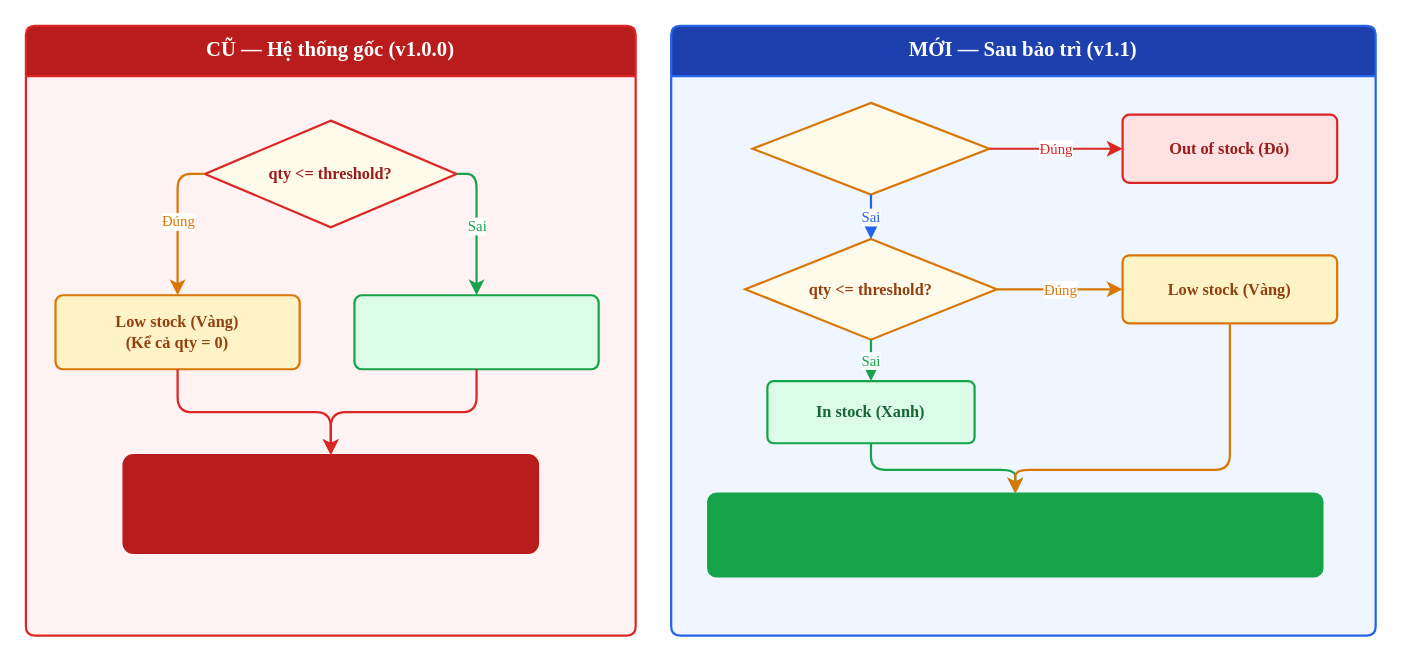
The diagram is 1403 pixels wide and 663 high, and some of its shapes have lost their labels. Each missing label, with the centre of its shape:
"Dashboard 3 thẻ (Không tách Out of stock)" goes at (330,503).
"Dashboard 4 thẻ (+ Thẻ Out-of-stock items)" goes at (1014,534).
"In stock (Xanh lá)" goes at (476,331).
"quantity == 0?" goes at (870,148).
